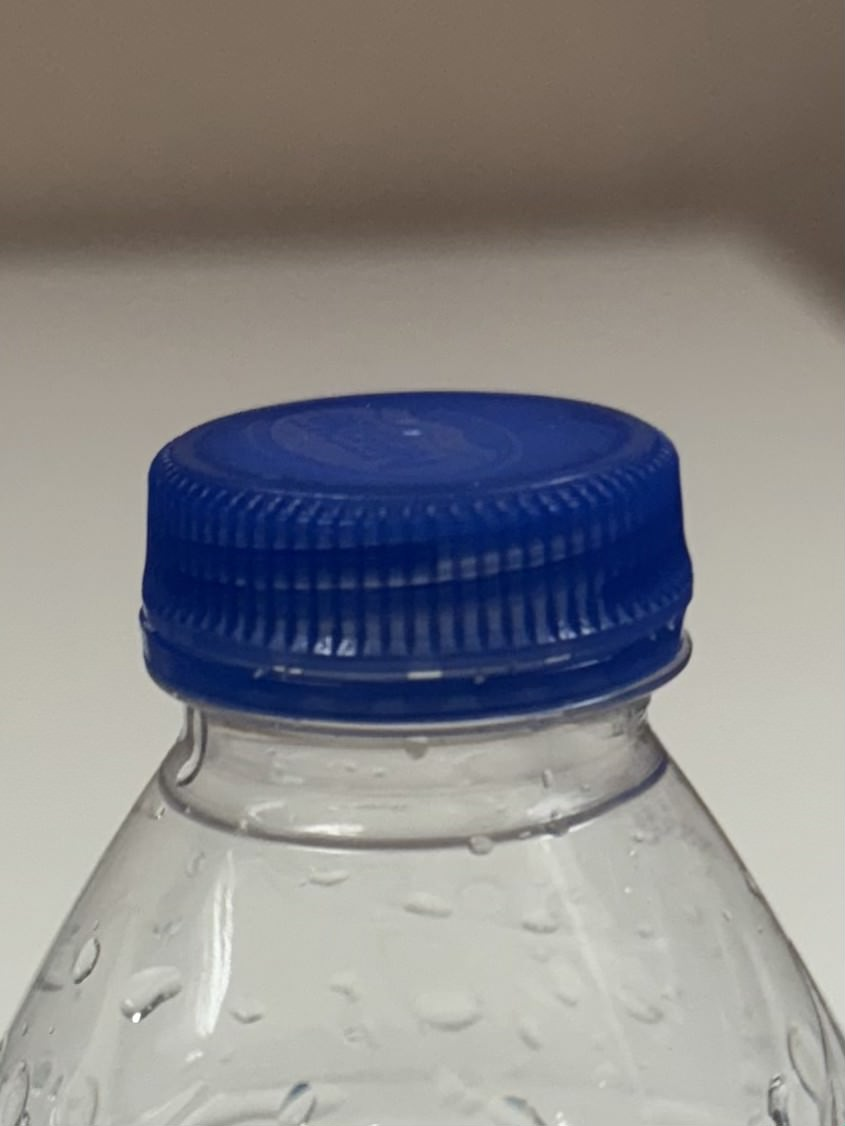closed_cap: (134, 383, 700, 732)
